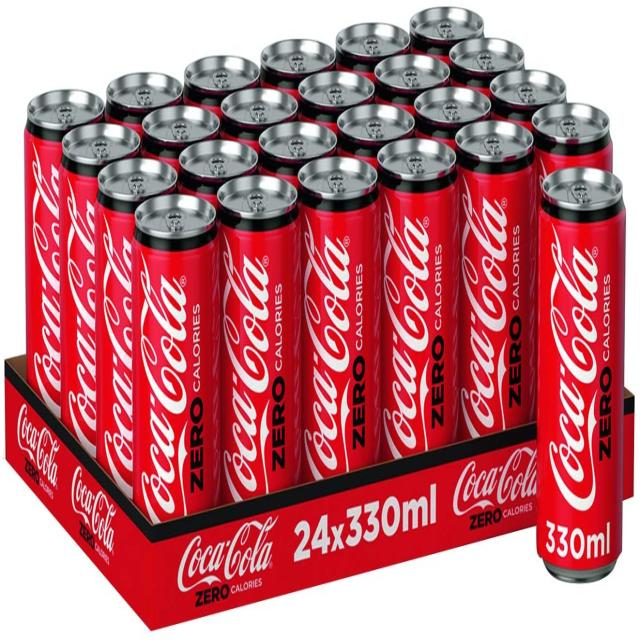cocacola: (538, 172, 622, 588), (215, 178, 302, 522), (134, 194, 222, 533), (60, 118, 141, 479), (98, 161, 176, 527), (23, 85, 100, 444), (458, 120, 539, 455), (378, 140, 458, 476), (302, 161, 381, 484), (536, 99, 620, 193)
